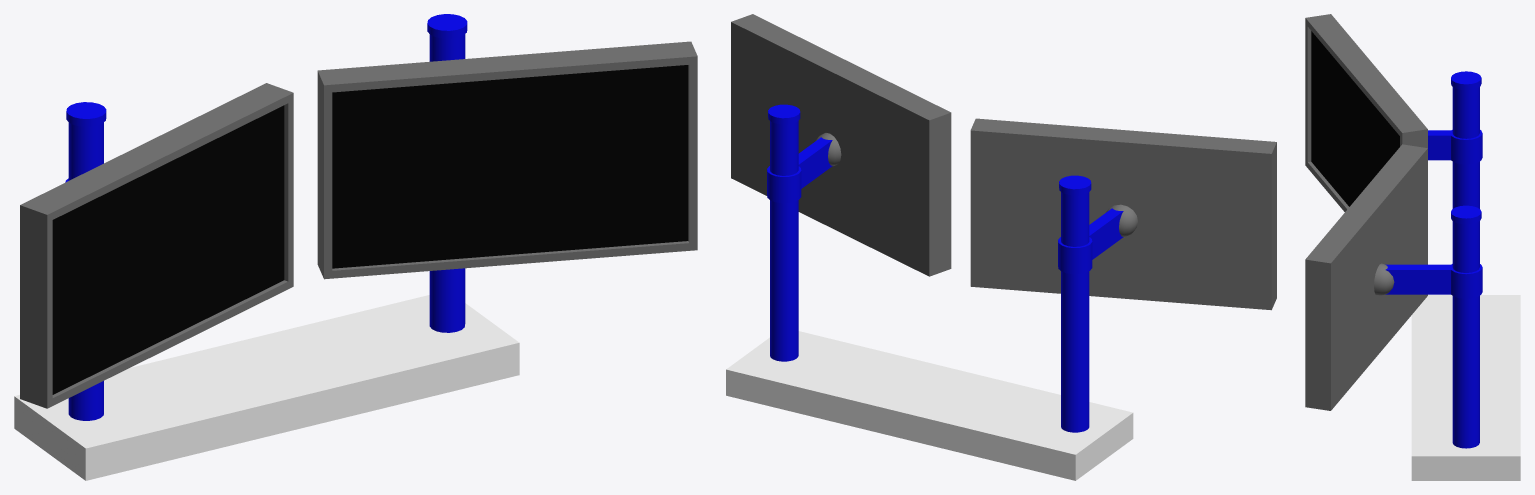
The model's file is Screens.fbx.
The picture shows the model from 3 angles, left to right: view 1: azimuth 30°, elevation 25°; view 2: azimuth 150°, elevation 25°; view 3: azimuth 270°, elevation 25°; orthographic projection. The views are drawn at different scales.
Visible parts, largest first — view 1: Screen, Base, Support; view 2: Screen, Base, Support, Arm; view 3: Screen, Base, Support, Arm.
Boxes of the visible parts, left/top/right/bottom form: Screen: left=20, top=41, right=697, bottom=408; Base: left=14, top=295, right=519, bottom=480; Support: left=66, top=14, right=467, bottom=420; Screen: left=731, top=14, right=1276, bottom=310; Base: left=726, top=331, right=1133, bottom=480; Support: left=768, top=104, right=1091, bottom=432; Arm: left=767, top=137, right=1123, bottom=274; Screen: left=1305, top=14, right=1427, bottom=410; Base: left=1411, top=295, right=1520, bottom=480; Support: left=1451, top=71, right=1481, bottom=448; Arm: left=1385, top=130, right=1482, bottom=298.
Size of the model in its own units: 42.64 by 20.86 by 15.57.
